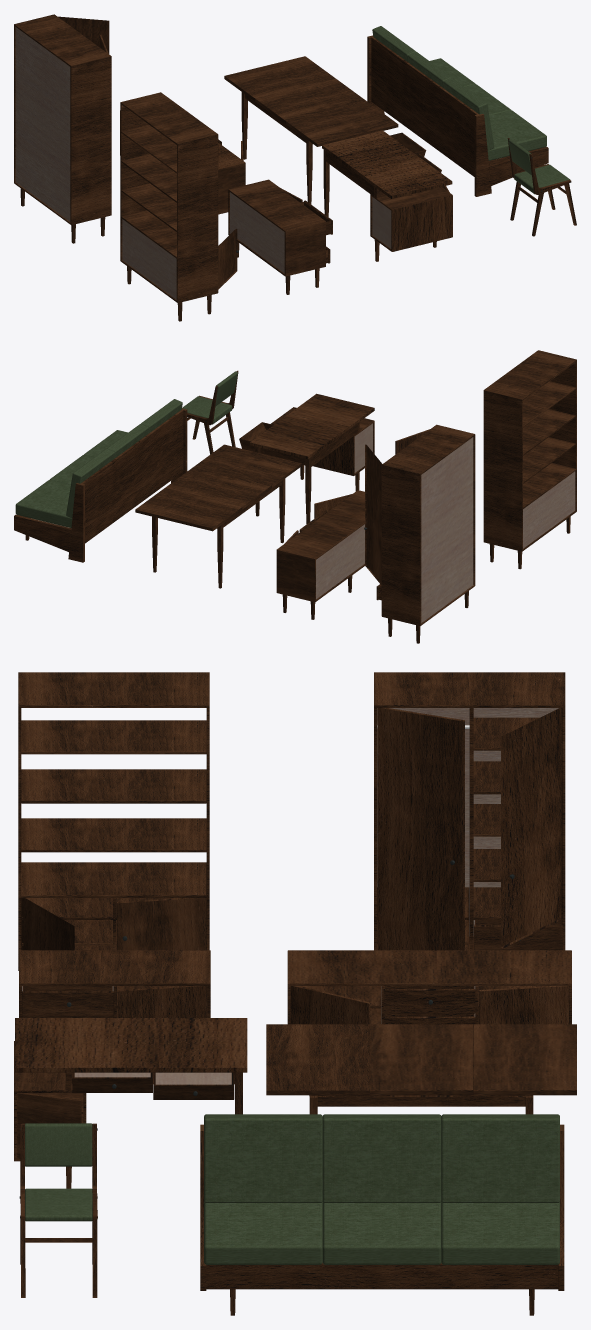
The model's file is retro_vintage_furniture_pack.glb.
The picture shows the model from 3 angles, top to bottom: view 1: azimuth 30°, elevation 25°; view 2: azimuth 150°, elevation 25°; view 3: azimuth 270°, elevation 25°; orthographic projection. The views are drawn at different scales.
Visible parts, largest first — view 1: Cube.118, Cube.043, Cube.002, Cube.109, Cube.022, Cube.041, Cube.032, Cube.104, Cube.081, Cube.084, Cube.055, Cube.040 (+2 smaller); view 2: Cube.118, Cube.043, Cube.109, Cube.022, Cube.041, Cube.002, Cube.055, Cube.104, Cube.081, Cube.038, Cube.101, Cube.040 (+1 smaller); view 3: Cube.104, Cube.043, Cube.118, Cube.022, Cube.055, Cube.002, Cube.032, Cube.109, Cube.101, Cube.041, Cube.040, Cube.085.
Boxes of the visible parts, box(x1,y1,x2,y2) form: Cube.118: box(120, 92, 237, 321); Cube.043: box(14, 14, 111, 243); Cube.002: box(322, 130, 452, 261); Cube.109: box(367, 35, 548, 196); Cube.022: box(224, 56, 398, 204); Cube.041: box(15, 27, 70, 221); Cube.032: box(228, 179, 332, 294); Cube.104: box(372, 26, 546, 160); Cube.081: box(122, 219, 176, 299); Cube.084: box(230, 192, 284, 273); Cube.055: box(120, 110, 245, 214); Cube.040: box(507, 138, 576, 236); Cube.118: box(483, 350, 576, 569); Cube.043: box(365, 424, 475, 643); Cube.109: box(14, 408, 187, 562); Cube.022: box(135, 444, 301, 588); Cube.041: box(421, 437, 473, 622); Cube.002: box(239, 393, 374, 524); Cube.055: box(276, 490, 364, 619); Cube.104: box(15, 399, 182, 527); Cube.081: box(523, 471, 575, 548); Cube.038: box(316, 524, 364, 599); Cube.101: box(182, 371, 237, 424); Cube.040: box(187, 370, 238, 454); Cube.104: box(204, 1114, 559, 1264); Cube.043: box(374, 672, 565, 950); Cube.118: box(18, 672, 209, 970); Cube.022: box(266, 1024, 576, 1114); Cube.055: box(287, 950, 571, 1024); Cube.002: box(14, 1018, 247, 1188); Cube.032: box(19, 950, 210, 1017); Cube.109: box(200, 1124, 564, 1315); Cube.101: box(25, 1123, 92, 1221); Cube.041: box(377, 708, 558, 936); Cube.040: box(20, 1123, 97, 1297); Cube.085: box(74, 1072, 231, 1084).
Bounding box in the file's own units: 4.2 × 1.7 × 2.88.
Materials: 6 (4 with a texture image).
